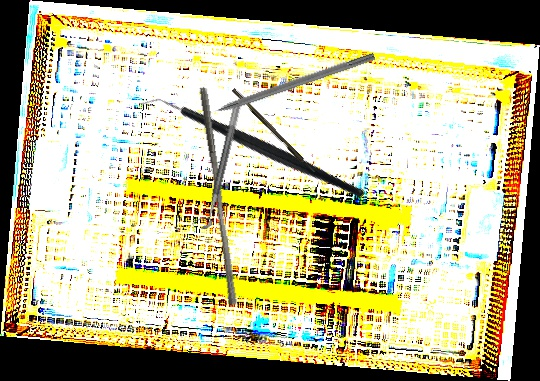Chopper: (138, 34, 366, 262)
Fixation Ring: (191, 98, 243, 231)
Hook Surgical: (197, 50, 376, 121), (231, 87, 316, 175)
Pusher: (190, 85, 246, 308)
